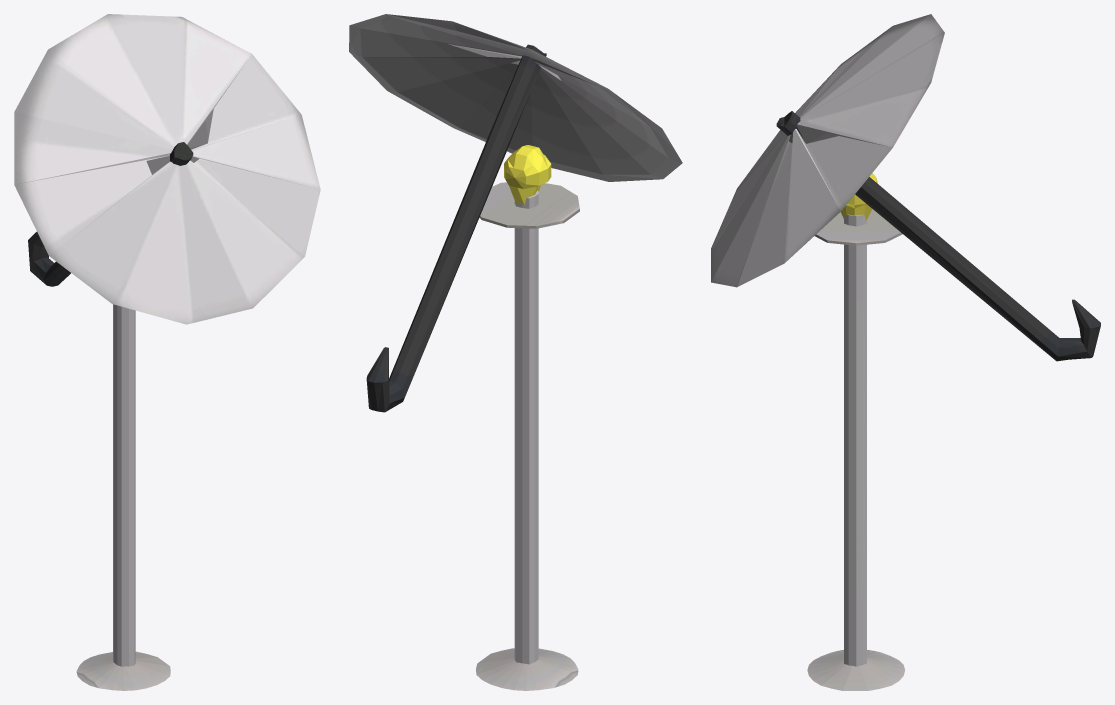
Rendered from StudioL.glb.
3 renders of one model, left to right at view 1: azimuth 30°, elevation 25°; view 2: azimuth 150°, elevation 25°; view 3: azimuth 270°, elevation 25°, orthographic. The views are drawn at different scales.
Parts seen in each view (by area): view 1: StudioL; view 2: StudioL; view 3: StudioL.
Boxes of the visible parts, x1,y1,x2,y2 form: StudioL: [14, 14, 320, 690]; StudioL: [349, 14, 682, 690]; StudioL: [711, 14, 1100, 690].
Bounding box in the file's own units: 197 × 406 × 220.
Materials: 1 (1 with a texture image).
